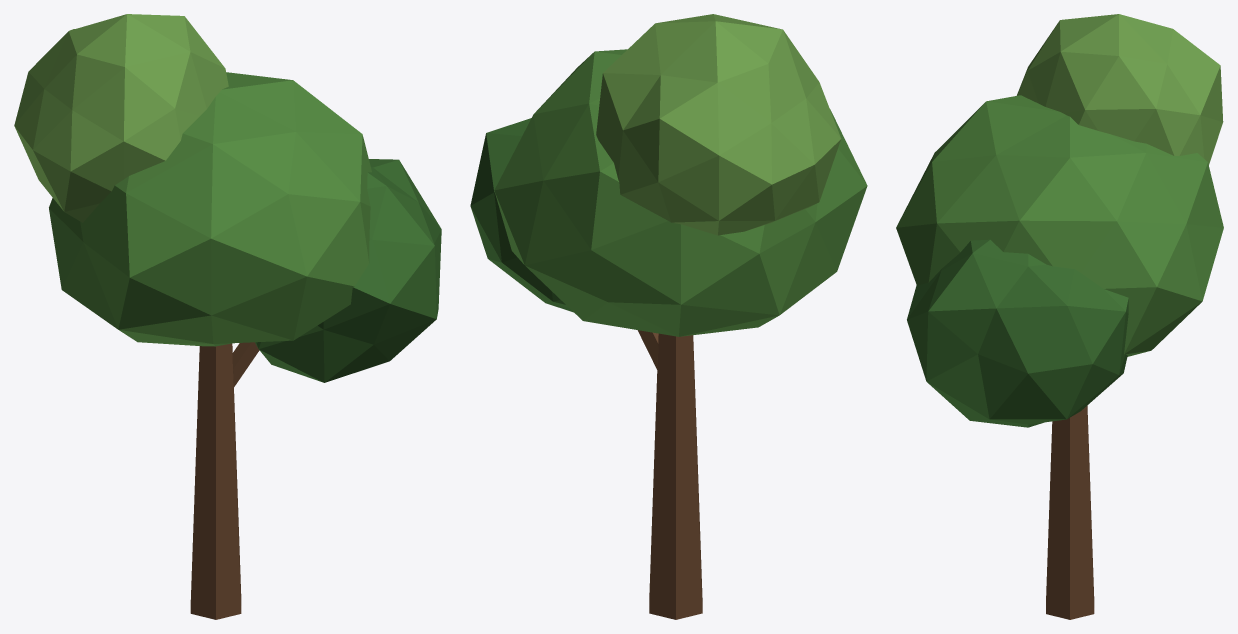
The model's file is prop_tree_01.glb.
3 views of the same model, side by side, from view 1: azimuth 30°, elevation 25°; view 2: azimuth 150°, elevation 25°; view 3: azimuth 270°, elevation 25° (orthographic). The views are drawn at different scales.
Parts seen in each view (by area): view 1: prop_tree_01; view 2: prop_tree_01; view 3: prop_tree_01.
Boxes of the visible parts, box(x1,y1,x2,y2) form: prop_tree_01: box(14, 14, 441, 619); prop_tree_01: box(470, 14, 867, 619); prop_tree_01: box(896, 14, 1223, 619).
Size of the model in its own units: 2.85 by 4.45 by 2.34.
